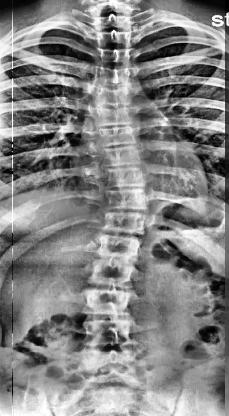Vertebrae: (74, 344, 142, 378), (80, 314, 133, 348), (78, 288, 134, 318), (101, 184, 151, 216), (87, 258, 137, 290), (102, 161, 154, 191), (96, 233, 142, 262), (95, 123, 139, 151), (91, 102, 138, 128), (100, 142, 146, 168), (102, 210, 148, 236), (91, 84, 139, 108), (93, 62, 137, 88), (96, 44, 136, 67), (95, 28, 134, 50), (95, 12, 133, 31)
